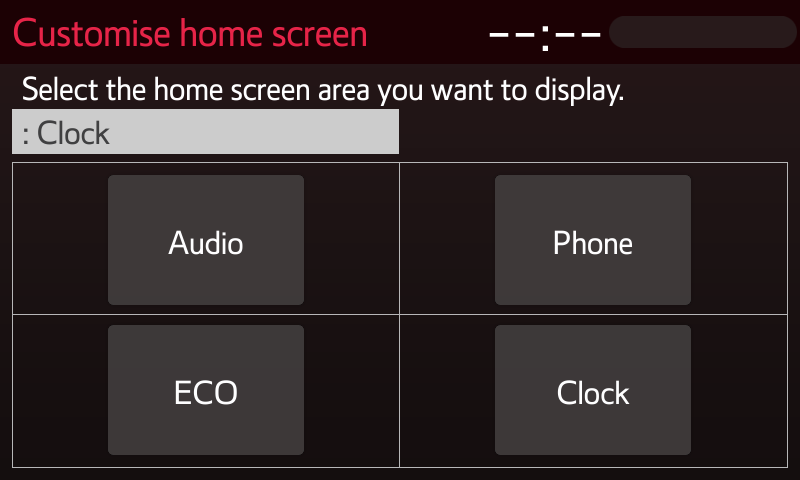touchPart: (98, 174, 323, 305), (99, 323, 313, 457), (488, 321, 701, 454), (494, 169, 698, 307)
untouchPart: (16, 71, 639, 108), (15, 13, 377, 57), (483, 12, 796, 51)
